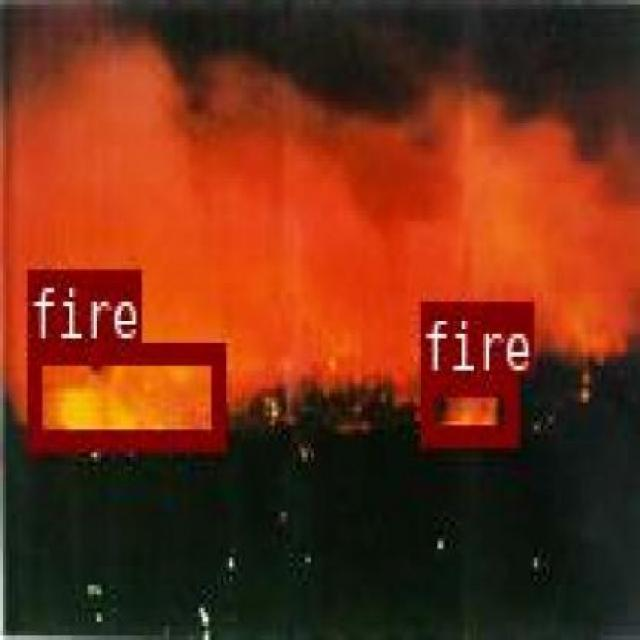fire: (26, 342, 222, 446), (418, 372, 514, 439)
